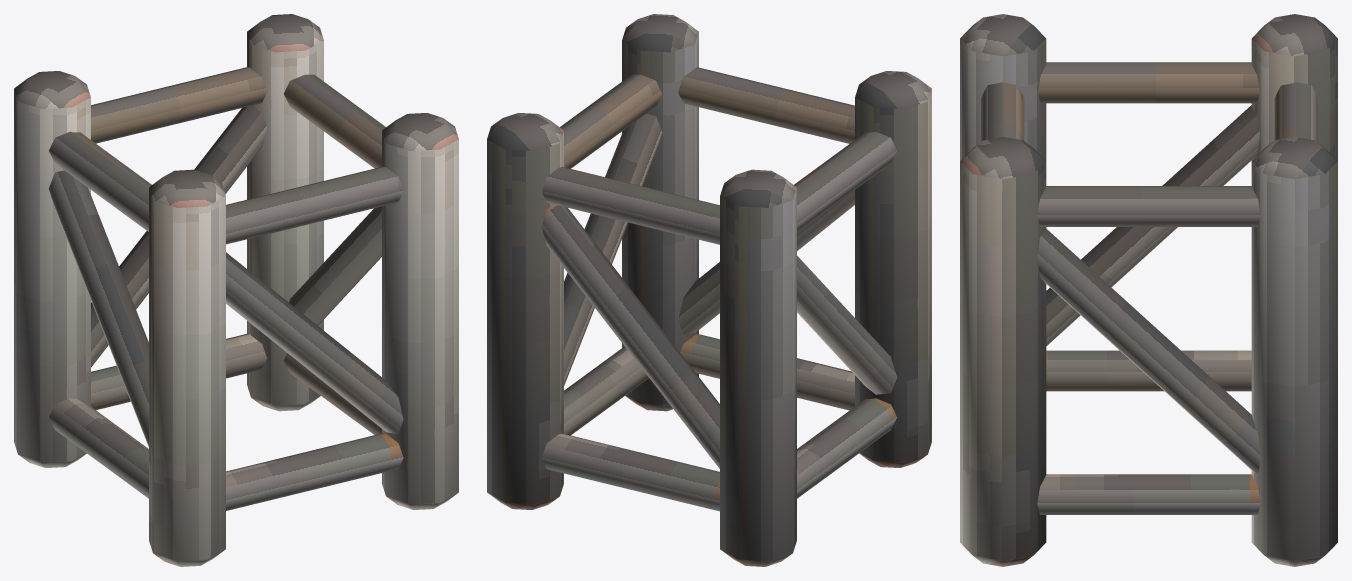
The model's file is item_truss_small.glb.
3 renders of one model, left to right at view 1: azimuth 30°, elevation 25°; view 2: azimuth 150°, elevation 25°; view 3: azimuth 270°, elevation 25°, orthographic. The views are drawn at different scales.
Parts seen in each view (by area): view 1: TrussSmall; view 2: TrussSmall; view 3: TrussSmall.
Part boxes in pixels (x1,y1,x2,y2): TrussSmall: [14, 14, 458, 566]; TrussSmall: [487, 14, 931, 566]; TrussSmall: [960, 14, 1337, 566].
Bounding box in the file's own units: 0.6456 × 0.7678 × 0.6473.
1 material, 1 textured.
